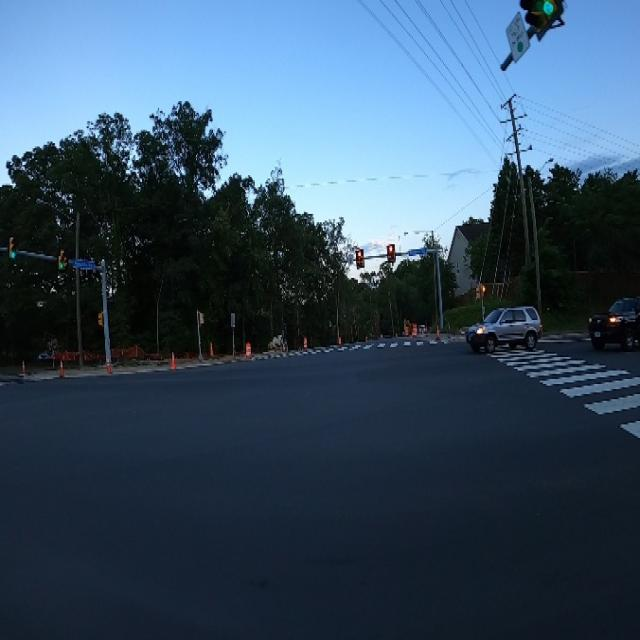car: (460, 298, 545, 355), (584, 290, 639, 349)
